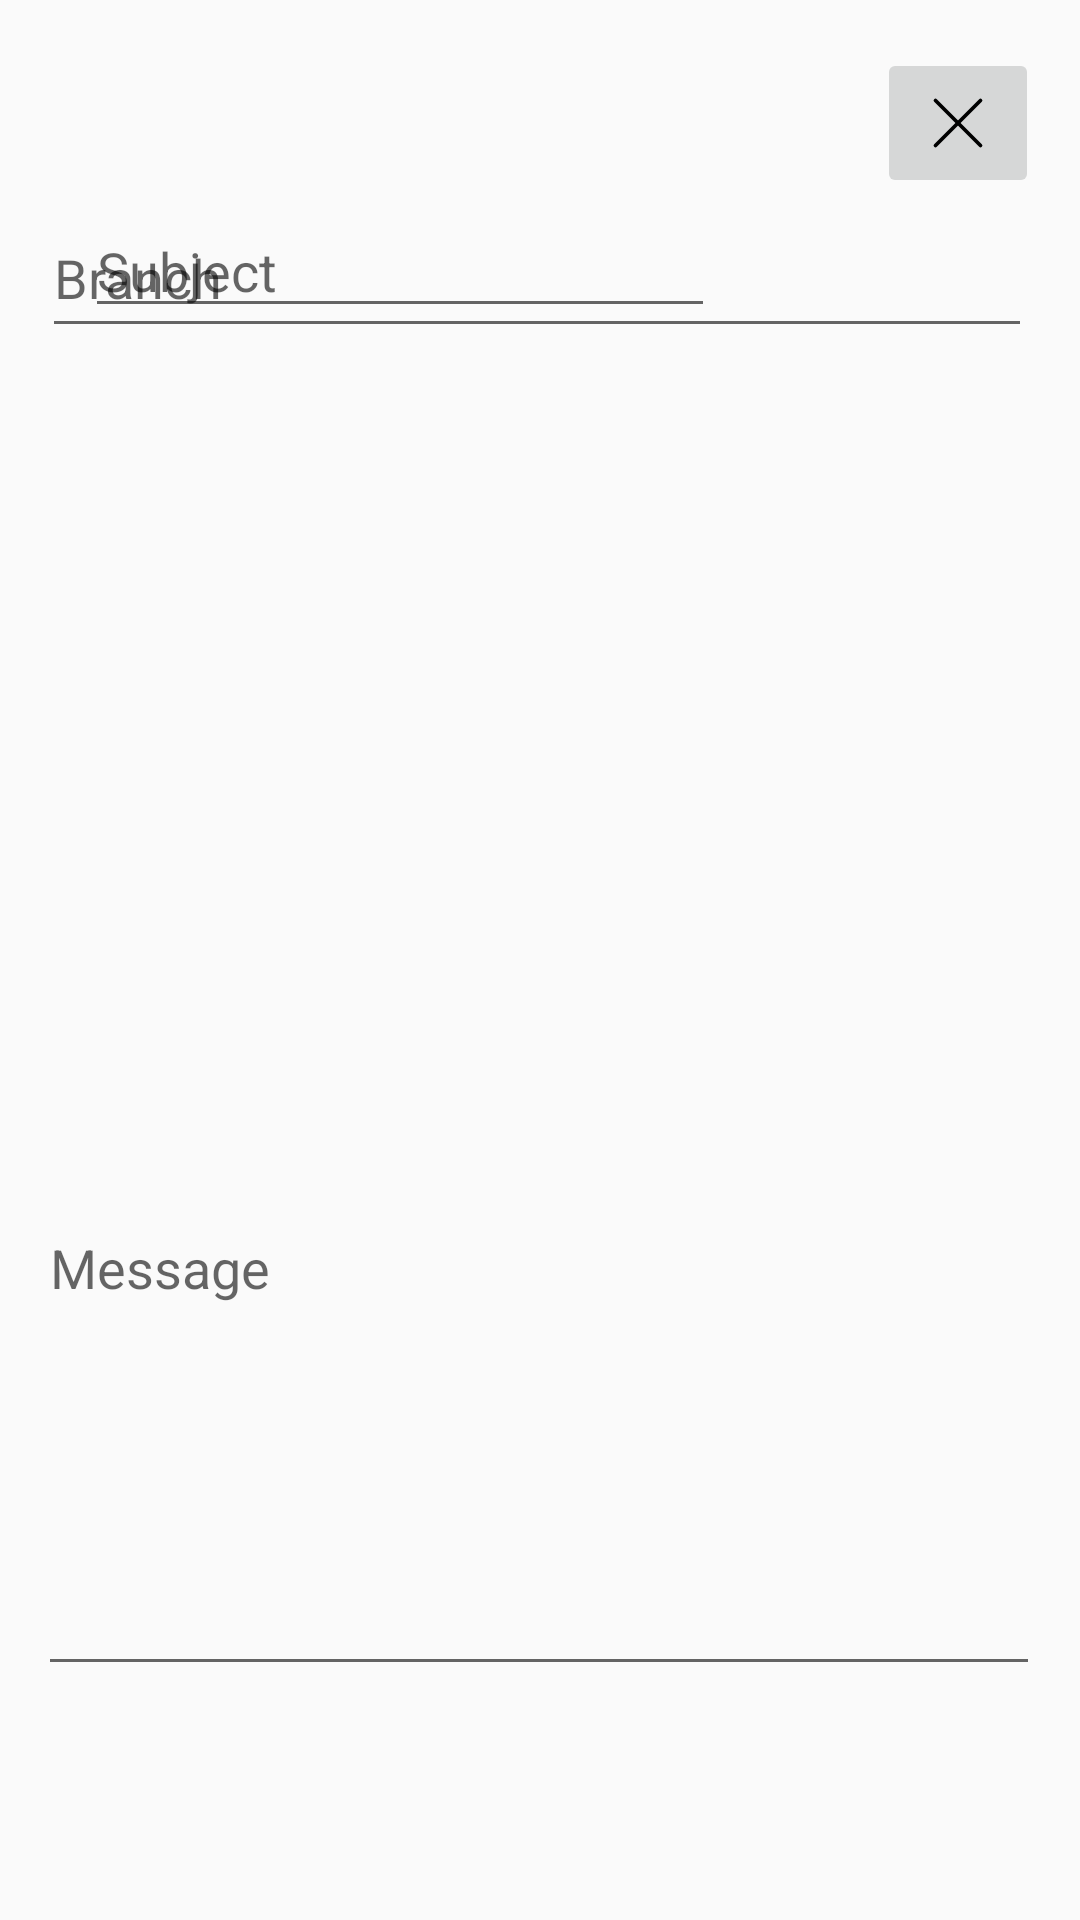

Screen size 1080w x 1920h. Icon name, then its center in pixels as point (x, y):
cancel: point (958, 123)
